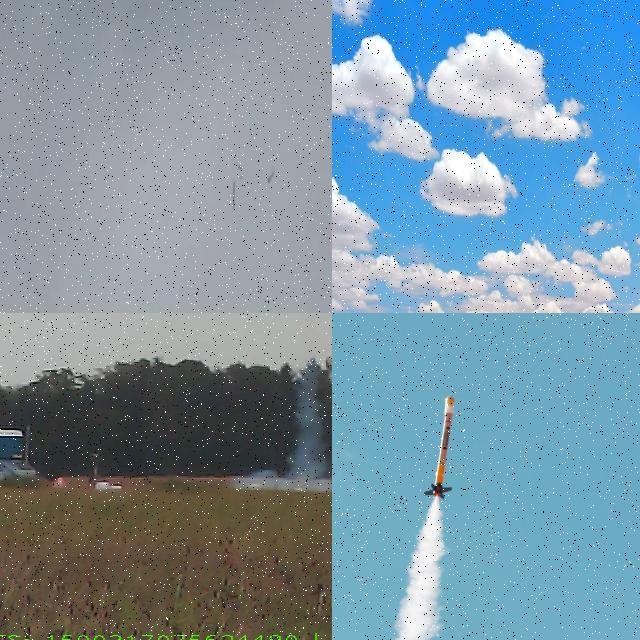Rocket: (423, 395, 455, 500), (267, 170, 275, 183)
